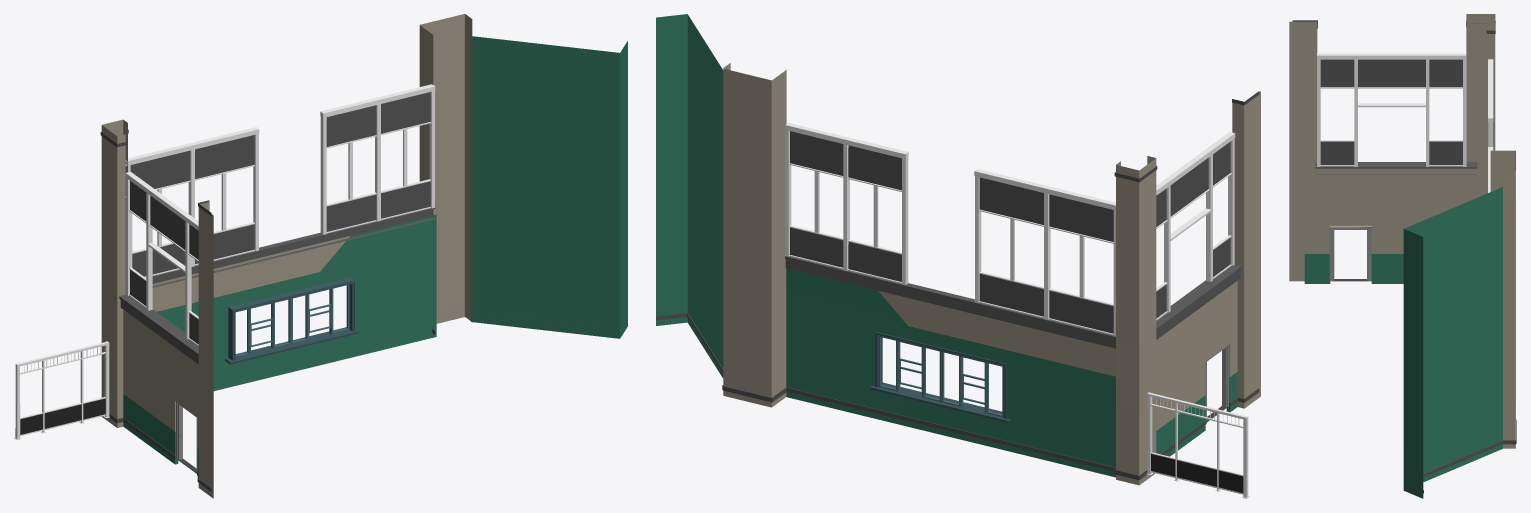
File: SM_H_Building_Tide_MedicalRoom_20_ATLAS.fbx
The picture shows the model from 3 angles, left to right: view 1: azimuth 30°, elevation 25°; view 2: azimuth 150°, elevation 25°; view 3: azimuth 270°, elevation 25°; orthographic projection. The views are drawn at different scales.
Parts seen in each view (by area): view 1: SM_H_Building_Tide_MedicalRoom_20_ATLAS; view 2: SM_H_Building_Tide_MedicalRoom_20_ATLAS; view 3: SM_H_Building_Tide_MedicalRoom_20_ATLAS.
Boxes of the visible parts, bbox=[...] form: SM_H_Building_Tide_MedicalRoom_20_ATLAS: bbox=[14, 14, 627, 498]; SM_H_Building_Tide_MedicalRoom_20_ATLAS: bbox=[656, 14, 1260, 498]; SM_H_Building_Tide_MedicalRoom_20_ATLAS: bbox=[1289, 14, 1516, 498].
Bounding box in the file's own units: 2700 × 999 × 1347.
